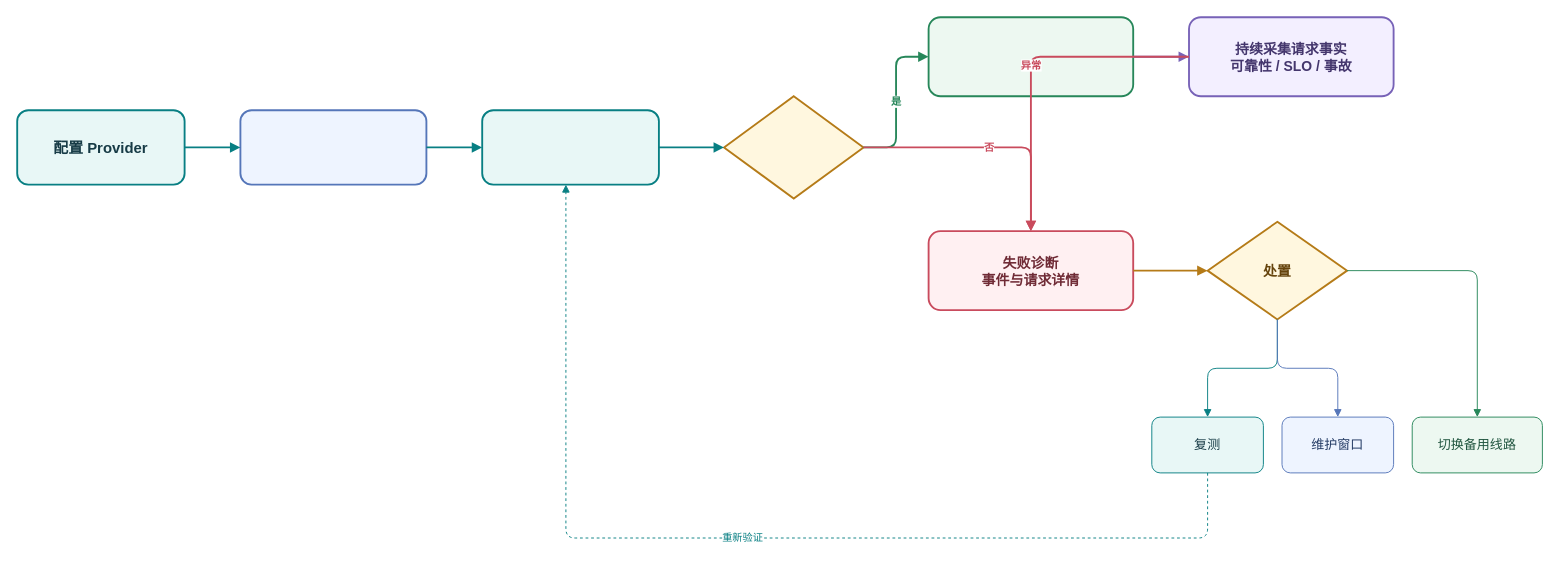
This 1559x562 diagram has some shape labels left out. Each missing label, with the box of its shape:
创建计划 / 保活 绑定 Provider Group: (927, 16, 1134, 97)
手动测活或 场景对比: (481, 109, 659, 185)
选择代理策略 默认代理 / 直连: (239, 109, 427, 185)
验证通过？: (723, 95, 864, 199)
